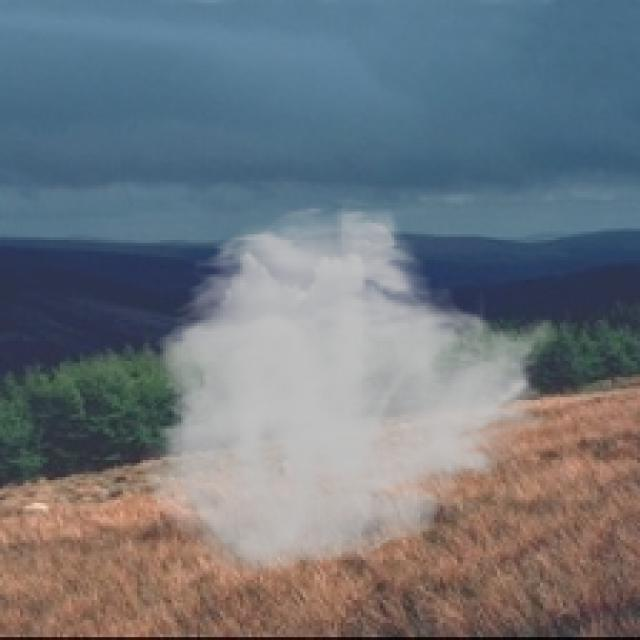Smoke: (137, 203, 560, 580)
